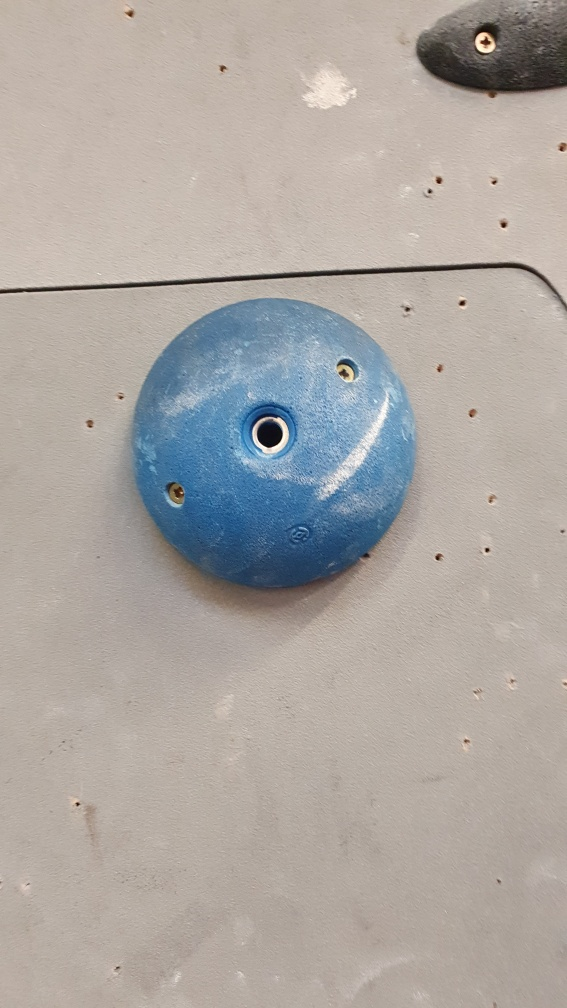Sloper: (126, 295, 419, 596)
